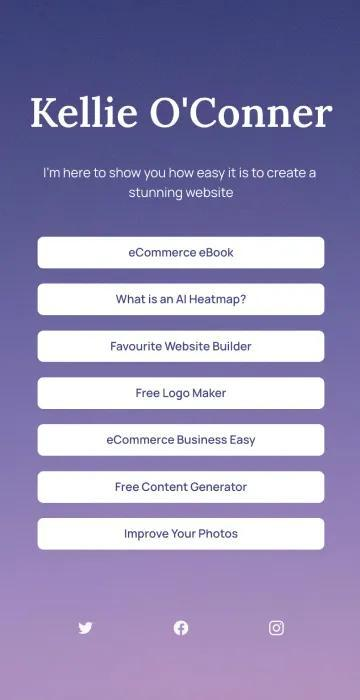button: (38, 377, 326, 412), (38, 424, 327, 458), (39, 330, 327, 364), (38, 517, 326, 551), (38, 471, 326, 504), (39, 285, 326, 317), (38, 238, 326, 269)
icon: (77, 621, 94, 636), (173, 621, 190, 636), (270, 621, 285, 637)
